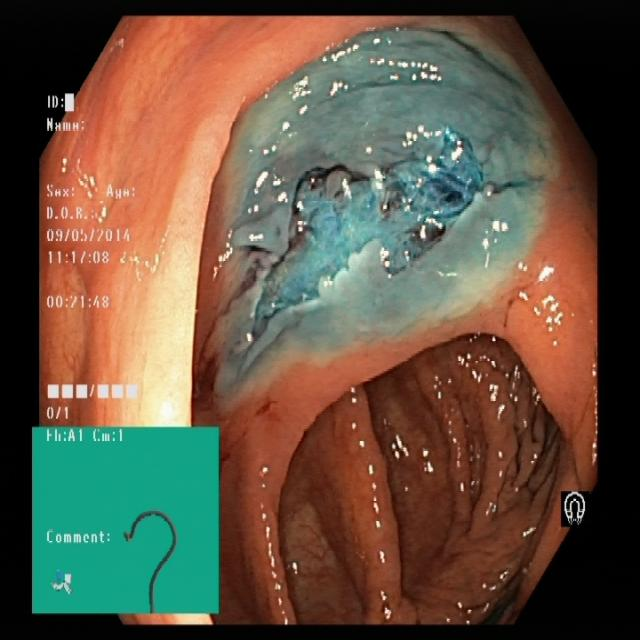dyed-resection-margins: (199, 114, 531, 430)
